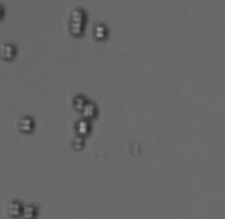Dead Cell: (66, 8, 87, 37), (18, 116, 34, 136), (82, 102, 98, 120), (1, 41, 16, 60), (71, 91, 84, 110), (7, 201, 21, 215), (23, 204, 35, 218), (73, 136, 85, 150)
Living Cell: (93, 24, 108, 41), (76, 120, 91, 135)
